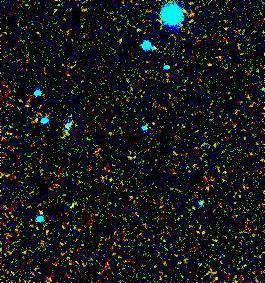star: (137, 109, 167, 139)
